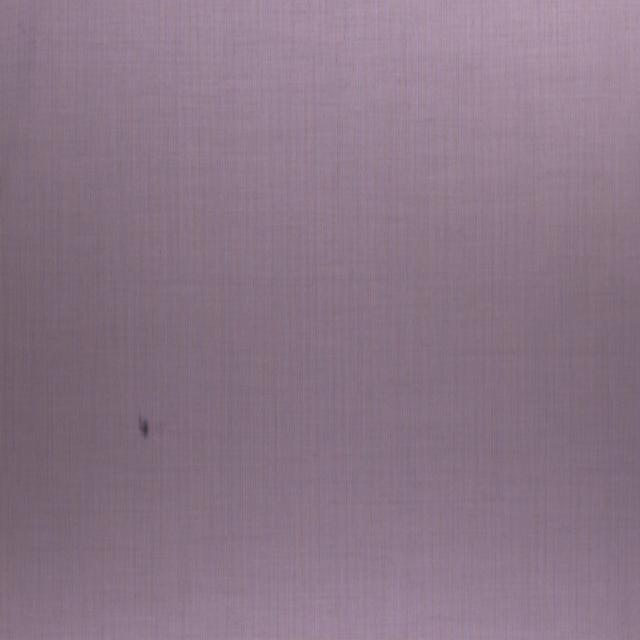dirty: (137, 412, 150, 438)
